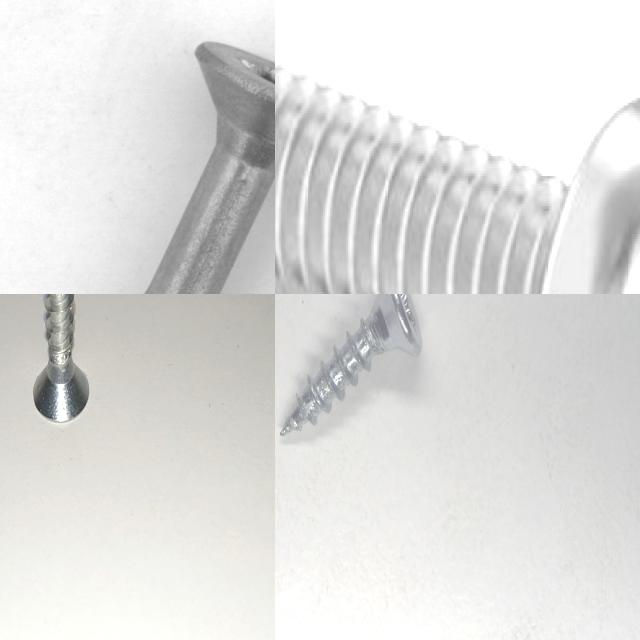Screw: (275, 68, 640, 294), (0, 23, 275, 294), (280, 294, 422, 435), (33, 294, 89, 422)
